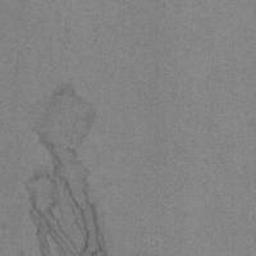Water spot: (20, 79, 110, 256), (124, 248, 163, 256)
